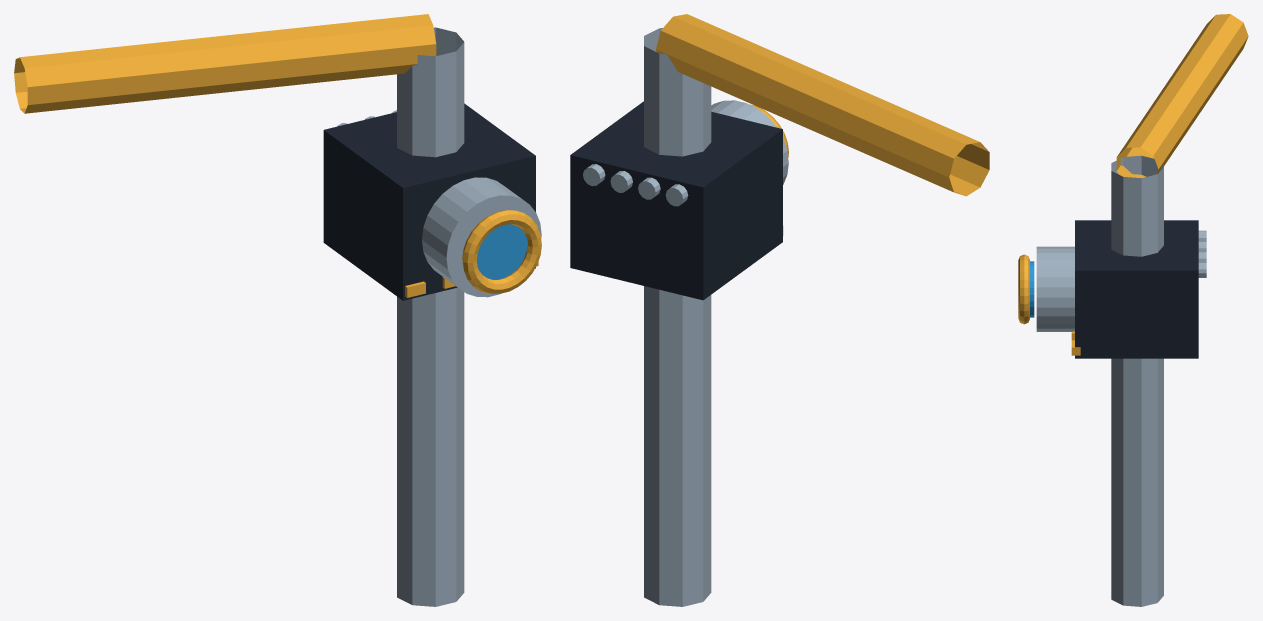
The model's file is 80_L86_ExternalInspectionCameraGantry.fbx.
3 views of the same model, side by side, from view 1: azimuth 30°, elevation 25°; view 2: azimuth 150°, elevation 25°; view 3: azimuth 270°, elevation 25° (orthographic). The views are drawn at different scales.
Parts seen in each view (by area): view 1: L86_ExternalInspectionCameraGantry, L86_ExternalInspectionCameraGantry_Part_0003, L86_ExternalInspectionCameraGantry_Part_0000, L86_ExternalInspectionCameraGantry_Part_0001, L86_ExternalInspectionCameraGantry_Part_0002; view 2: L86_ExternalInspectionCameraGantry_Part_0000, L86_ExternalInspectionCameraGantry, L86_ExternalInspectionCameraGantry_Part_0003, L86_ExternalInspectionCameraGantry_Part_0001; view 3: L86_ExternalInspectionCameraGantry, L86_ExternalInspectionCameraGantry_Part_0000, L86_ExternalInspectionCameraGantry_Part_0003, L86_ExternalInspectionCameraGantry_Part_0001.
Boxes of the visible parts, x1,y1,x2,y2 form: L86_ExternalInspectionCameraGantry: (397, 27, 464, 606); L86_ExternalInspectionCameraGantry_Part_0003: (14, 14, 541, 297); L86_ExternalInspectionCameraGantry_Part_0000: (323, 103, 535, 300); L86_ExternalInspectionCameraGantry_Part_0001: (337, 110, 541, 297); L86_ExternalInspectionCameraGantry_Part_0002: (476, 224, 527, 279); L86_ExternalInspectionCameraGantry_Part_0000: (570, 101, 782, 300); L86_ExternalInspectionCameraGantry: (644, 28, 711, 606); L86_ExternalInspectionCameraGantry_Part_0003: (656, 14, 989, 235); L86_ExternalInspectionCameraGantry_Part_0001: (583, 100, 788, 206); L86_ExternalInspectionCameraGantry: (1111, 155, 1163, 606); L86_ExternalInspectionCameraGantry_Part_0000: (1075, 220, 1198, 358); L86_ExternalInspectionCameraGantry_Part_0003: (1018, 14, 1248, 355); L86_ExternalInspectionCameraGantry_Part_0001: (1036, 230, 1206, 331).
Size of the model in its own units: 169 by 220 by 102.
